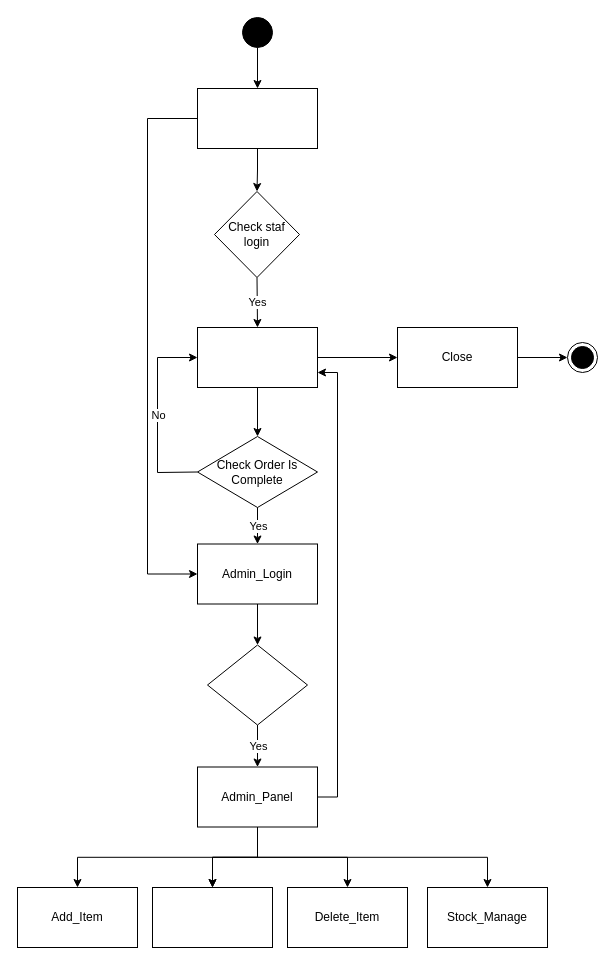
This 615x965 diagram has some shape labels left out. The shapes that lost their labels are listed below. From the top down, each one's centre as x and y in pixels, then its label:
the point at 257,118: Staf_Login
the point at 257,357: Order IceCream
the point at 257,684: Check Admin Login
the point at 212,917: Edit_Item
